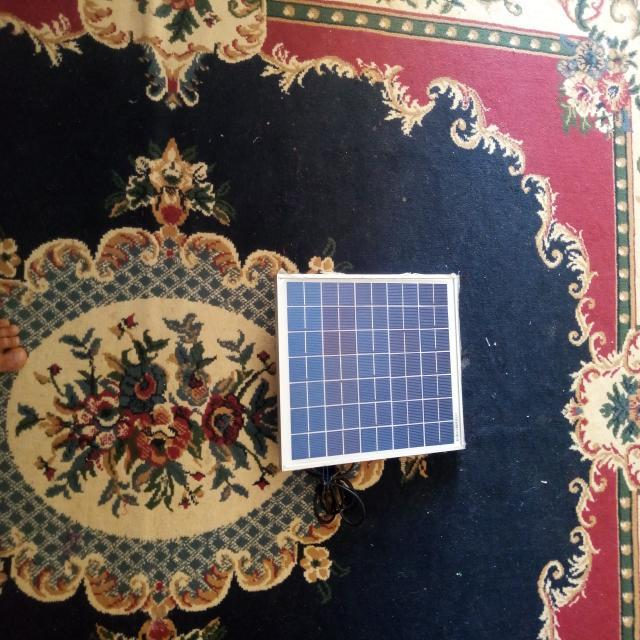no faulty: (277, 276, 465, 470)
